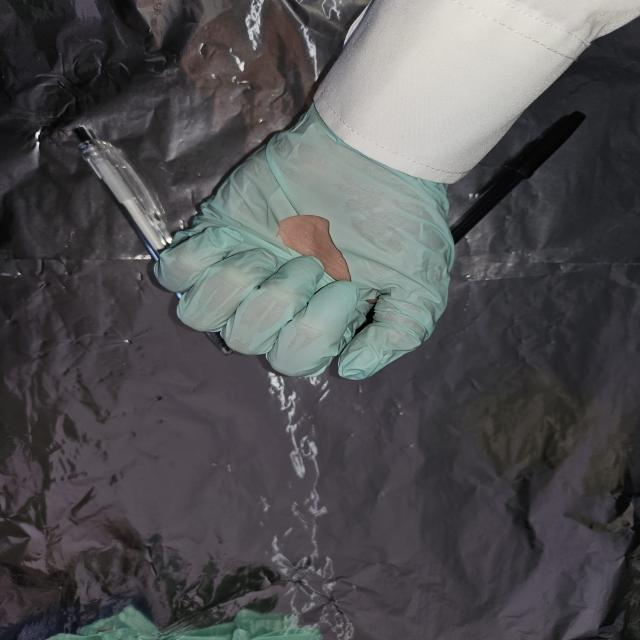gloves_damaged: (149, 100, 458, 380)
